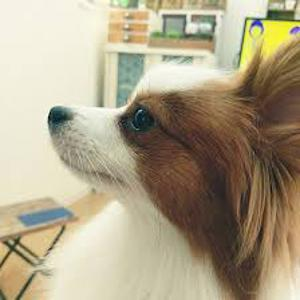yell: (46, 39, 300, 300)
